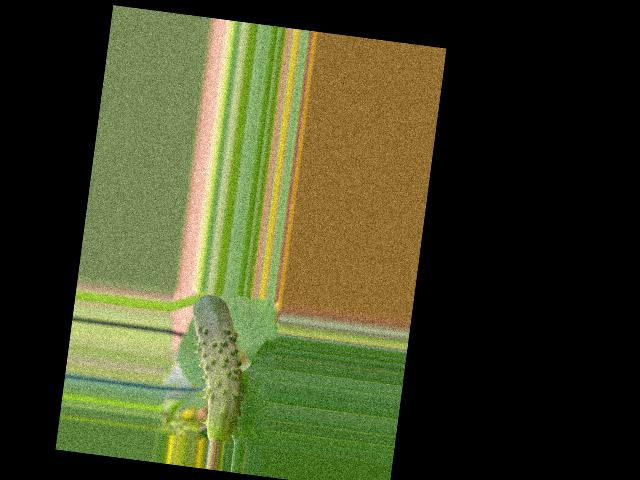cucumber: (177, 292, 256, 443)
